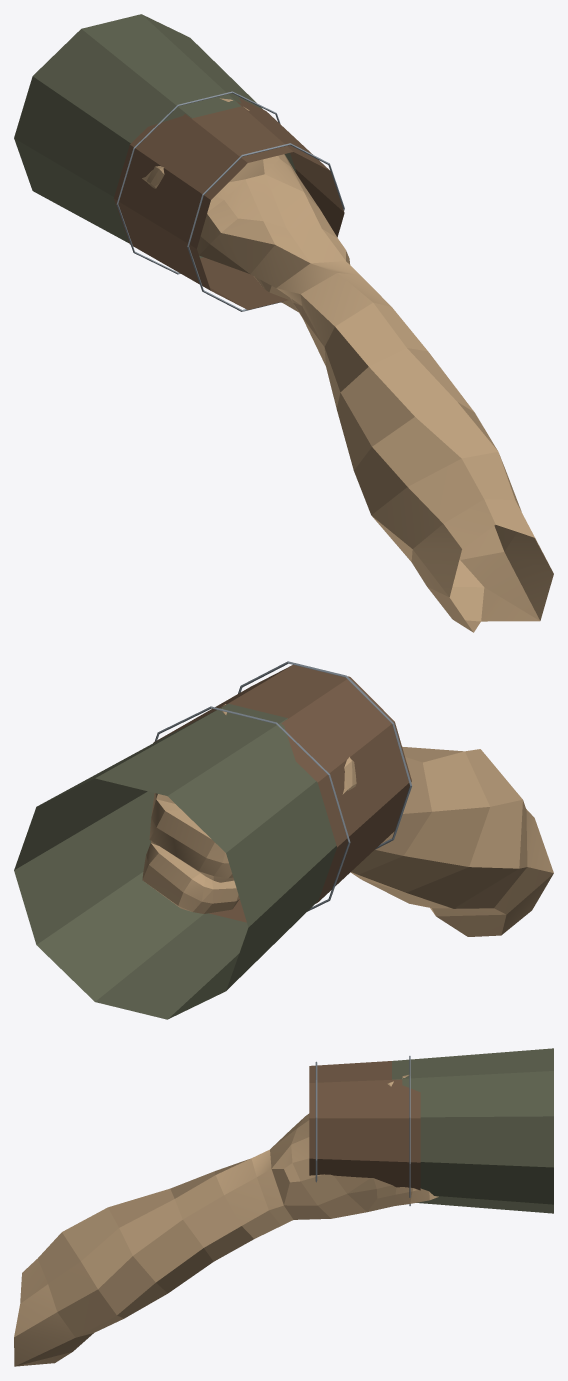
Rendered from fp_arm_right.glb.
The picture shows the model from 3 angles, top to bottom: view 1: azimuth 30°, elevation 25°; view 2: azimuth 150°, elevation 25°; view 3: azimuth 270°, elevation 25°; orthographic projection. The views are drawn at different scales.
Visible parts, largest first — view 1: HeroArmRight, Right_Sleeve, Right_Bracer, Right_Cuff, Right_BracerRim; view 2: Right_Sleeve, HeroArmRight, Right_Bracer, Right_BracerRim, Right_Cuff; view 3: HeroArmRight, Right_Sleeve, Right_Bracer.
Boxes of the visible parts, box(x1,y1,x2,y2) form: HeroArmRight: box(142, 98, 553, 632); Right_Sleeve: box(14, 14, 296, 257); Right_Bracer: box(113, 98, 344, 309); Right_Cuff: box(187, 143, 344, 311); Right_BracerRim: box(116, 91, 280, 274); Right_Sleeve: box(14, 703, 336, 1019); HeroArmRight: box(142, 704, 553, 936); Right_Bracer: box(153, 665, 411, 922); Right_BracerRim: box(154, 706, 350, 911); Right_Cuff: box(238, 661, 411, 849); HeroArmRight: box(14, 1075, 438, 1366); Right_Sleeve: box(392, 1048, 553, 1213); Right_Bracer: box(309, 1061, 420, 1190).
Size of the model in its own units: 0.24 by 0.4394 by 0.75.
